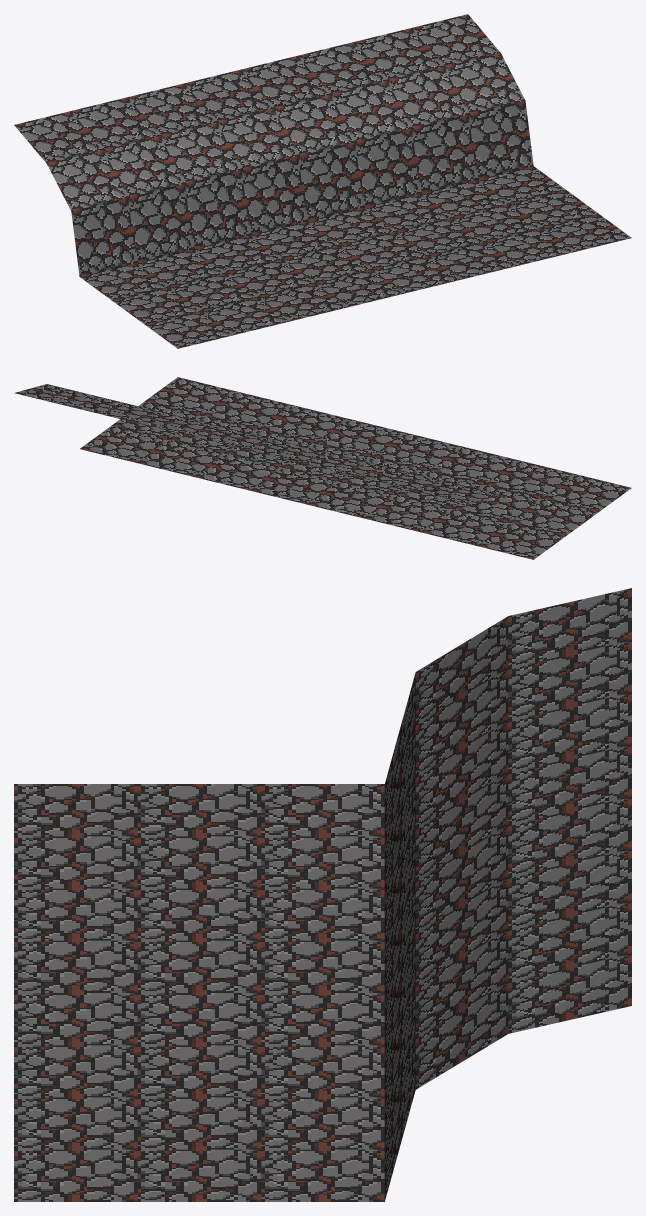
Rendered from StoneDirtBackground.gltf.
3 views of the same model, one above another, from view 1: azimuth 30°, elevation 25°; view 2: azimuth 150°, elevation 25°; view 3: azimuth 270°, elevation 25° (orthographic). The views are drawn at different scales.
Size of the model in its own units: 16 by 3.5 by 10.
1 material, 1 textured.
